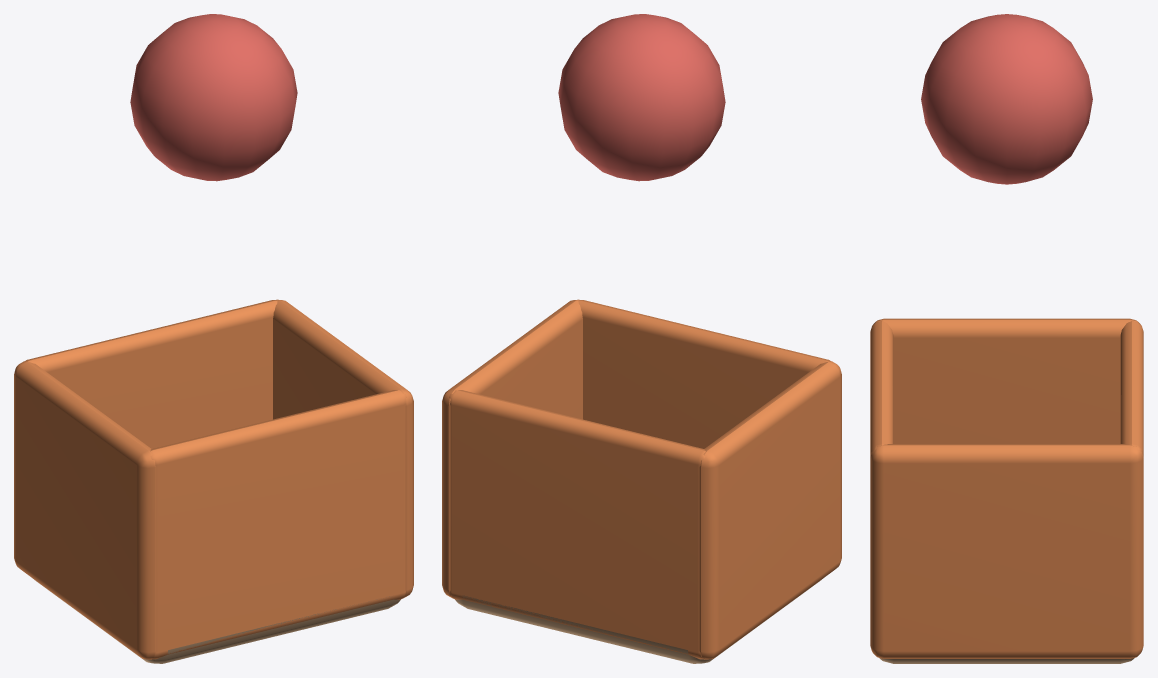
The model's file is ava-position-above.glb.
3 renders of one model, left to right at view 1: azimuth 30°, elevation 25°; view 2: azimuth 150°, elevation 25°; view 3: azimuth 270°, elevation 25°, orthographic.
Parts seen in each view (by area): view 1: box side.006, box side.004, box side.007, location ball, box side.005, box floor.001; view 2: box side.007, box side.004, box side.006, location ball, box side.005, box floor.001; view 3: box side.005, box side.004, location ball, box side.006, box side.007, box floor.001.
Boxes of the visible parts, box(x1,y1,x2,y2) form: box side.006: box(150, 390, 406, 659); box side.004: box(14, 361, 156, 659); box side.007: box(25, 300, 277, 448); location ball: box(130, 14, 297, 181); box side.005: box(273, 299, 413, 597); box floor.001: box(34, 579, 400, 663); box side.007: box(449, 390, 705, 659); box side.004: box(699, 361, 841, 659); box side.006: box(578, 300, 830, 448); location ball: box(558, 14, 725, 181); box side.005: box(442, 299, 582, 597); box floor.001: box(455, 579, 821, 663); box side.005: box(870, 444, 1143, 658); box side.004: box(872, 318, 1141, 443); location ball: box(921, 14, 1092, 184); box side.006: box(870, 321, 893, 456); box side.007: box(1120, 321, 1143, 456); box floor.001: box(879, 658, 1134, 663).
Size of the model in its own units: 0.83 by 1.65 by 0.7.
